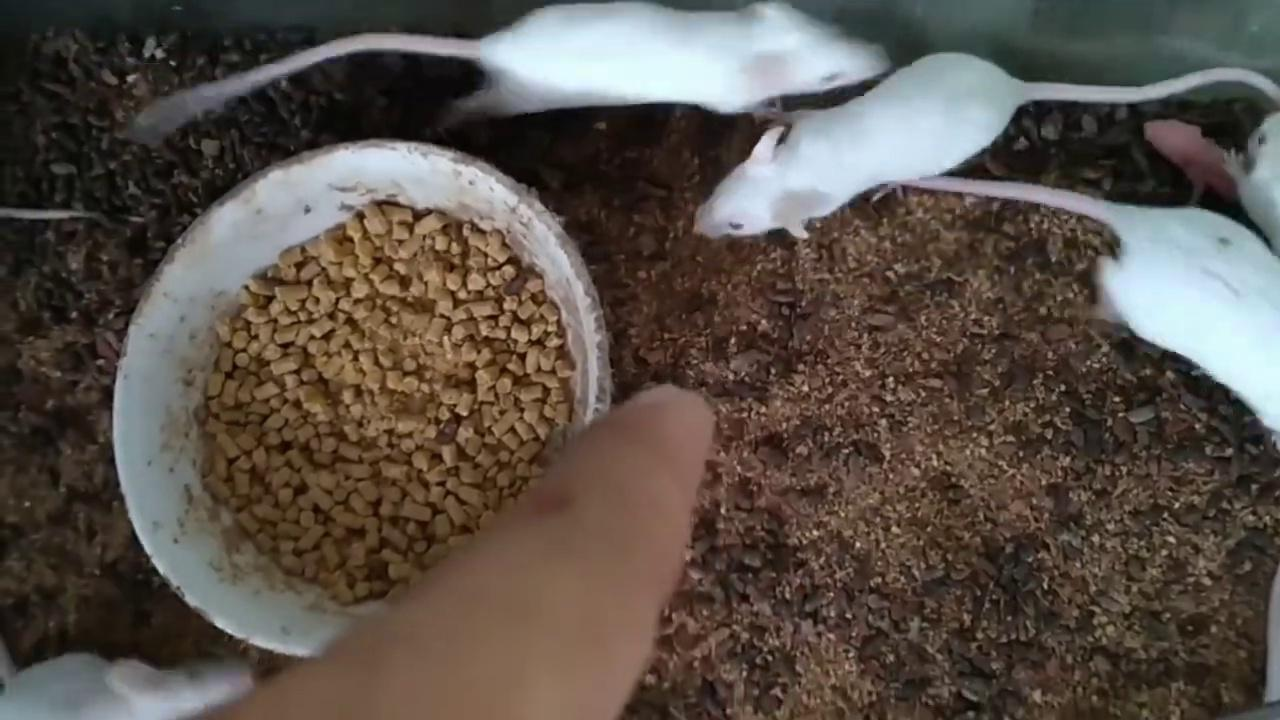rat: (693, 52, 1280, 239), (135, 0, 898, 135)
